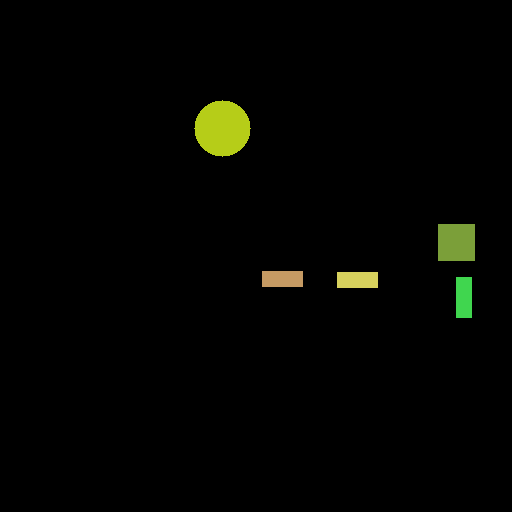circle: (193, 96, 253, 154)
side_rect: (259, 268, 307, 293), (331, 266, 379, 291)
square: (437, 222, 477, 264)
up_rect: (456, 273, 471, 319)
